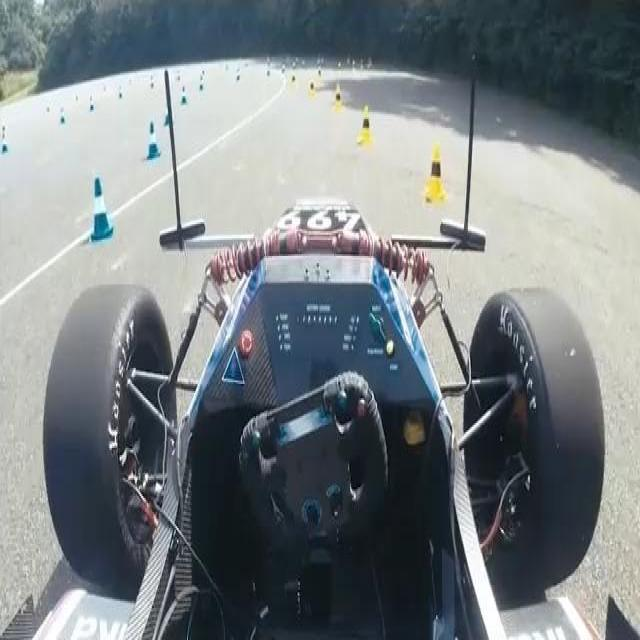blue_cone: (86, 172, 114, 242), (145, 118, 161, 162), (164, 96, 173, 125), (180, 84, 187, 105), (2, 133, 8, 157), (199, 78, 205, 95), (60, 106, 65, 125), (90, 99, 94, 112), (119, 87, 123, 99)
yellow_cone: (423, 144, 445, 203), (356, 105, 374, 147), (333, 84, 343, 112), (308, 80, 315, 99), (1, 124, 7, 142), (290, 75, 296, 92), (47, 103, 53, 120), (75, 94, 80, 108)
